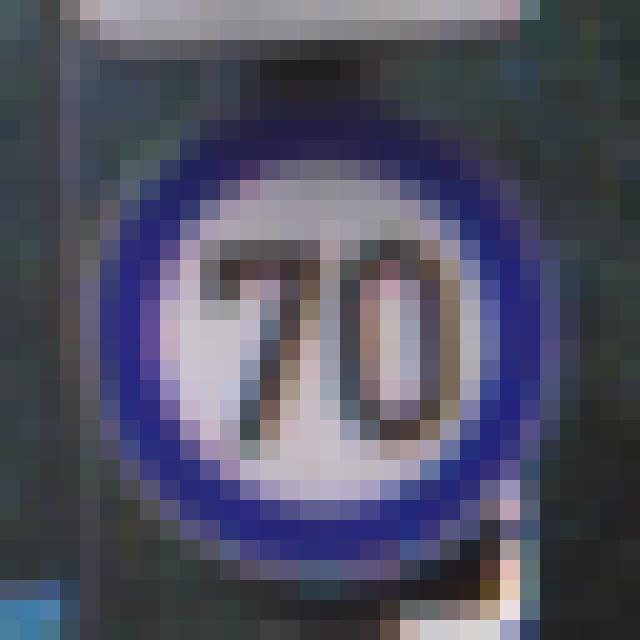SPEED LIMIT 70: (89, 120, 529, 578)
